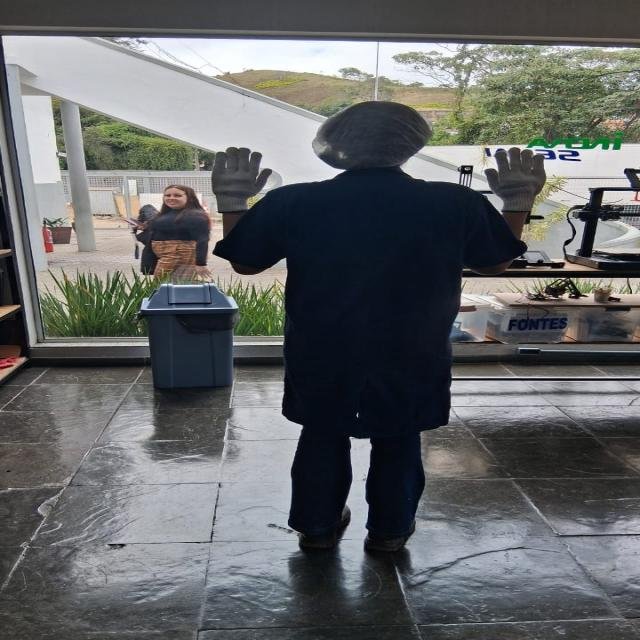BOTA: (295, 497, 350, 552), (353, 511, 423, 553)
JALECO: (205, 160, 537, 441)
LUVA: (209, 146, 275, 213), (483, 147, 548, 214)
SEM LUVA: (195, 263, 212, 280), (128, 221, 150, 231)
TOUCA: (316, 100, 439, 171)
